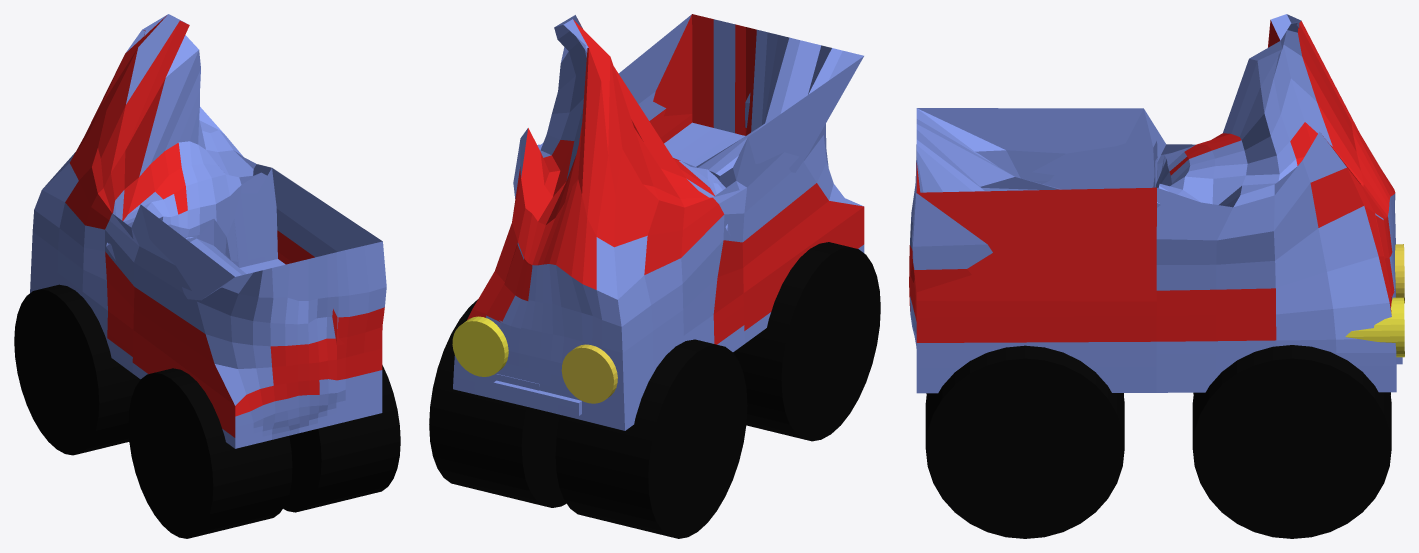
The model's file is kuruma.fbx.
The picture shows the model from 3 angles, left to right: view 1: azimuth 30°, elevation 25°; view 2: azimuth 150°, elevation 25°; view 3: azimuth 270°, elevation 25°; orthographic projection. The views are drawn at different scales.
Parts seen in each view (by area): view 1: Cube, Cylinder.001, Cylinder; view 2: Cube, Cylinder, Cylinder.001, Cylinder.003, Cylinder.002; view 3: Cube, Cylinder, Cylinder.001, Cylinder.003.
Part boxes in pixels (bbox=[...]): Cube: bbox=[30, 14, 386, 448]; Cylinder.001: bbox=[128, 365, 400, 538]; Cylinder: bbox=[14, 284, 140, 455]; Cube: bbox=[453, 14, 864, 430]; Cylinder: bbox=[429, 299, 747, 538]; Cylinder.001: bbox=[733, 242, 880, 441]; Cylinder.003: bbox=[452, 316, 508, 376]; Cylinder.002: bbox=[561, 344, 617, 403]; Cube: bbox=[909, 14, 1402, 393]; Cylinder: bbox=[1192, 345, 1391, 538]; Cylinder.001: bbox=[925, 345, 1124, 538]; Cylinder.003: bbox=[1345, 297, 1404, 357].
Size of the model in its own units: 254 by 533 by 498.
